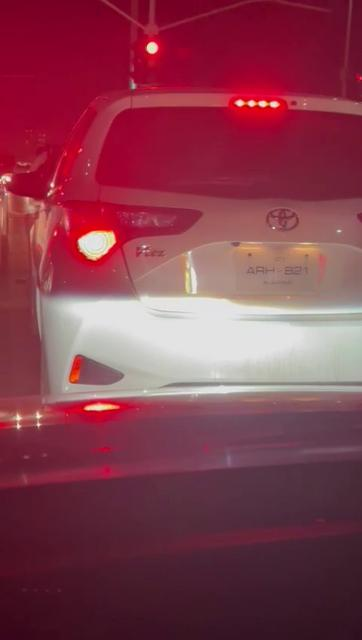plate: (232, 248, 320, 298)
